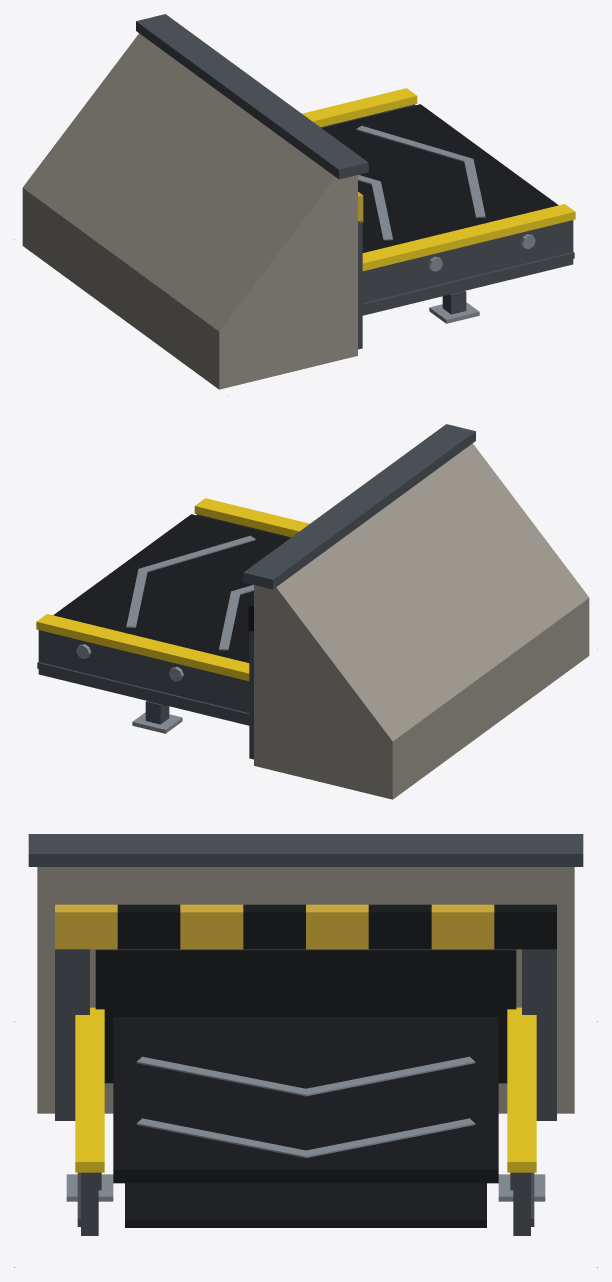
File: convoyeur_tunnel_sortie_t1.glb
3 renders of one model, top to bottom at view 1: azimuth 30°, elevation 25°; view 2: azimuth 150°, elevation 25°; view 3: azimuth 270°, elevation 25°, orthographic. The views are drawn at different scales.
Parts seen in each view (by area): view 1: bouche.012, pieces_acier_sombre.016, pieces_noir.024, pieces_rive_t1.006, bande_acier.042, pieces_acier.048; view 2: bouche.012, pieces_acier_sombre.016, pieces_noir.024, pieces_rive_t1.006, bande_acier.042, pieces_acier.048; view 3: pieces_noir.024, pieces_acier_sombre.016, bouche.012, pieces_jaune.018, pieces_rive_t1.006, bande_acier.042, pieces_acier.048.
Boxes of the visible parts, x1,y1,x2,y2 form: bouche.012: (22, 33, 357, 389); pieces_acier_sombre.016: (136, 14, 574, 349); pieces_noir.024: (322, 104, 558, 252); pieces_rive_t1.006: (302, 88, 575, 271); bande_acier.042: (356, 125, 485, 240); pieces_acier.048: (428, 234, 535, 323); bouche.012: (254, 443, 589, 799); pieces_acier_sombre.016: (37, 424, 475, 759); pieces_noir.024: (53, 514, 289, 662); pieces_rive_t1.006: (36, 498, 309, 681); bande_acier.042: (126, 535, 255, 650); pieces_acier.048: (76, 644, 183, 733); pieces_noir.024: (95, 904, 556, 1227); pieces_acier_sombre.016: (28, 834, 583, 1235); bouche.012: (37, 867, 574, 1113); pieces_jaune.018: (55, 904, 494, 949); pieces_rive_t1.006: (75, 1007, 536, 1172); bande_acier.042: (136, 1056, 475, 1157); pieces_acier.048: (66, 1174, 545, 1201).
Size of the model in its own units: 1 by 0.5 by 1.
